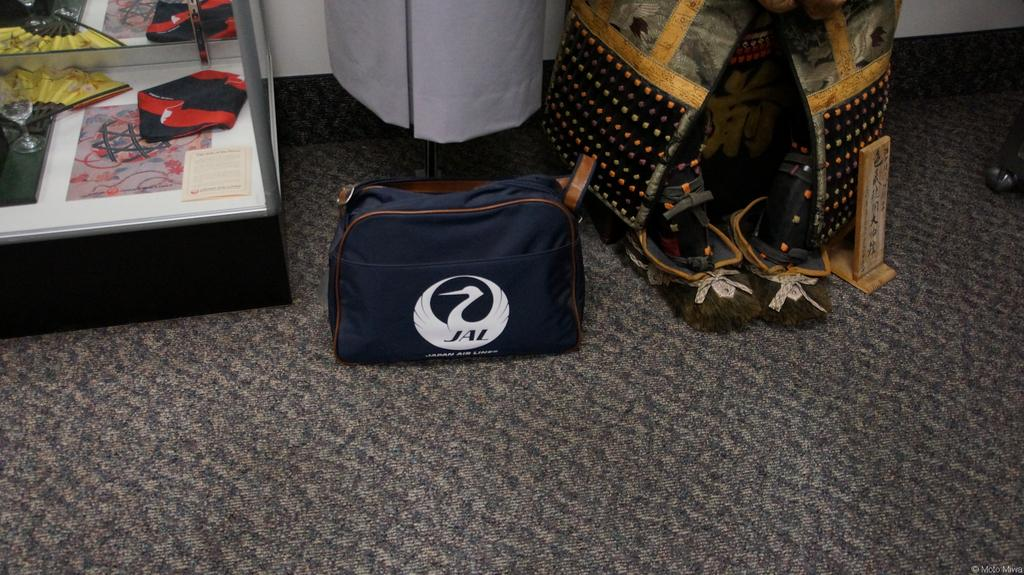Luggage-and-bags: (326, 151, 600, 370)
